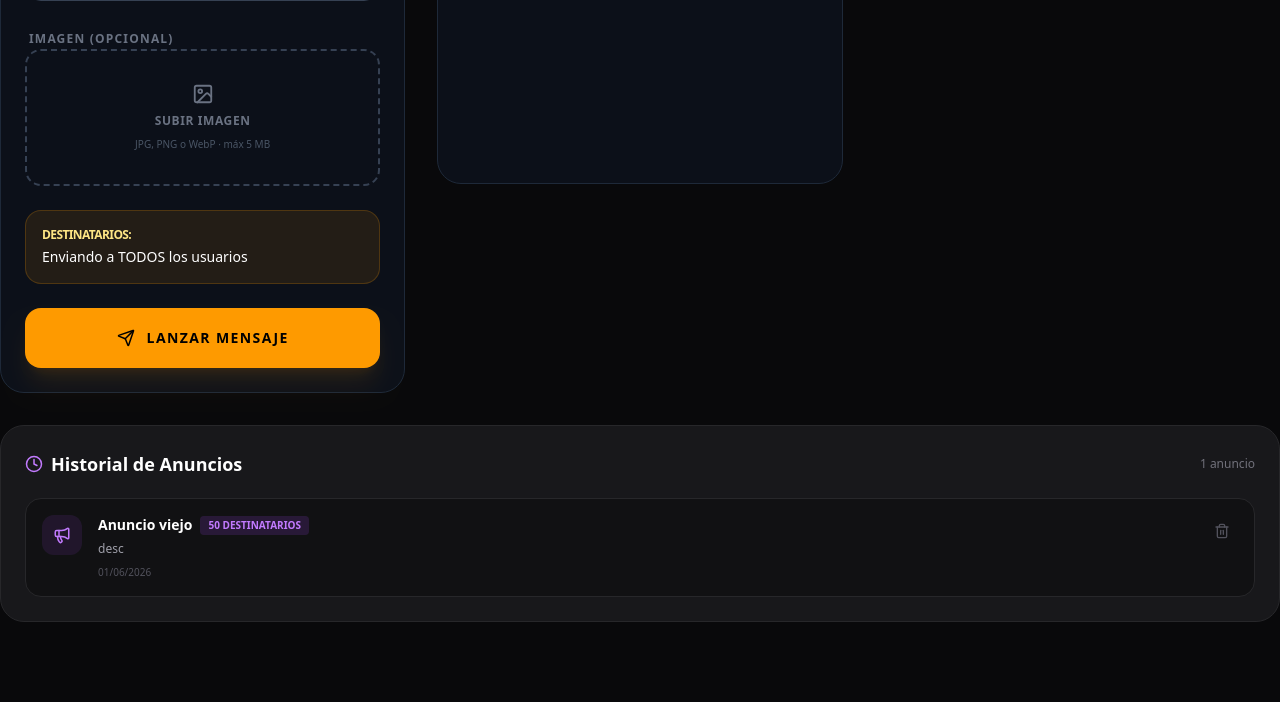
Test: Admin — Megáfono (notificaciones masivas) › elimina un anuncio del historial, previa confirmación
The image size is (1280, 702).
(page scrolled)
Expected: the heading "Anuncio viejo" is shown, [98, 515, 192, 535]
Click the button titled "Eliminar anuncio". click: (1222, 531)
box: [1206, 515, 1238, 547]
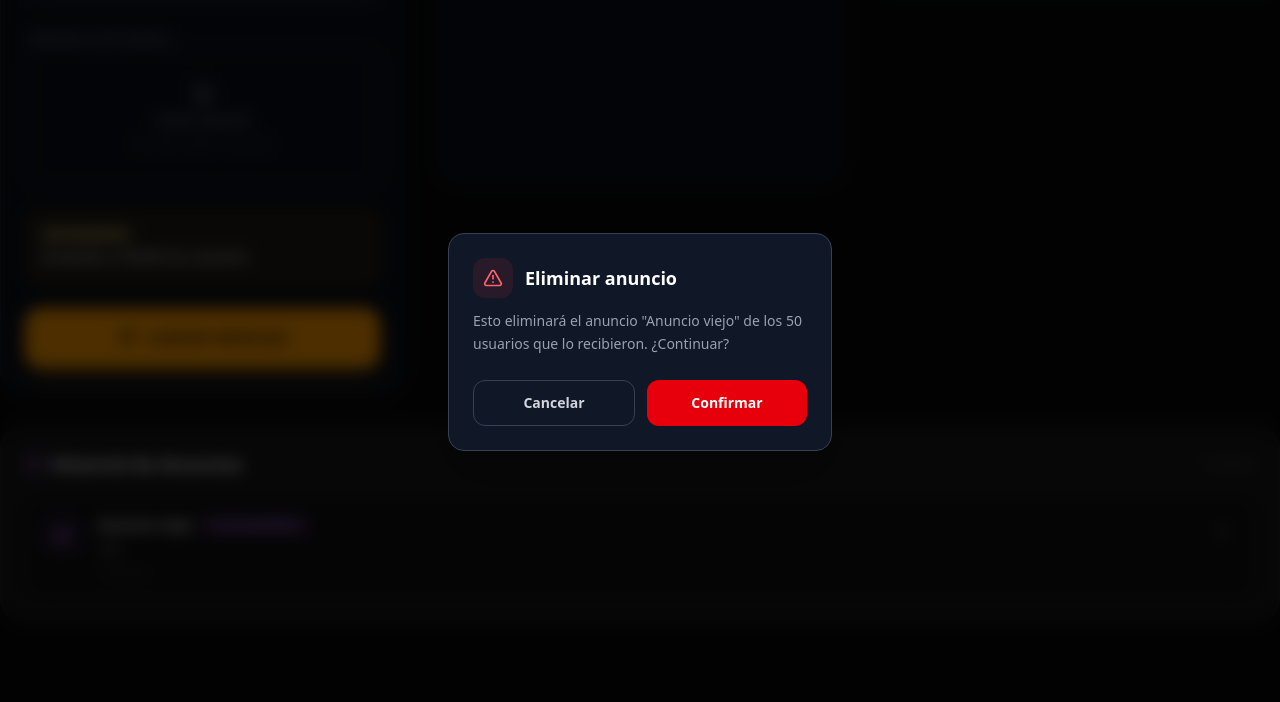
Expected: the heading "Eliminar anuncio" is shown, [525, 264, 677, 292]
Click the button "Confirmar". click: (727, 403)
box: [647, 380, 807, 426]
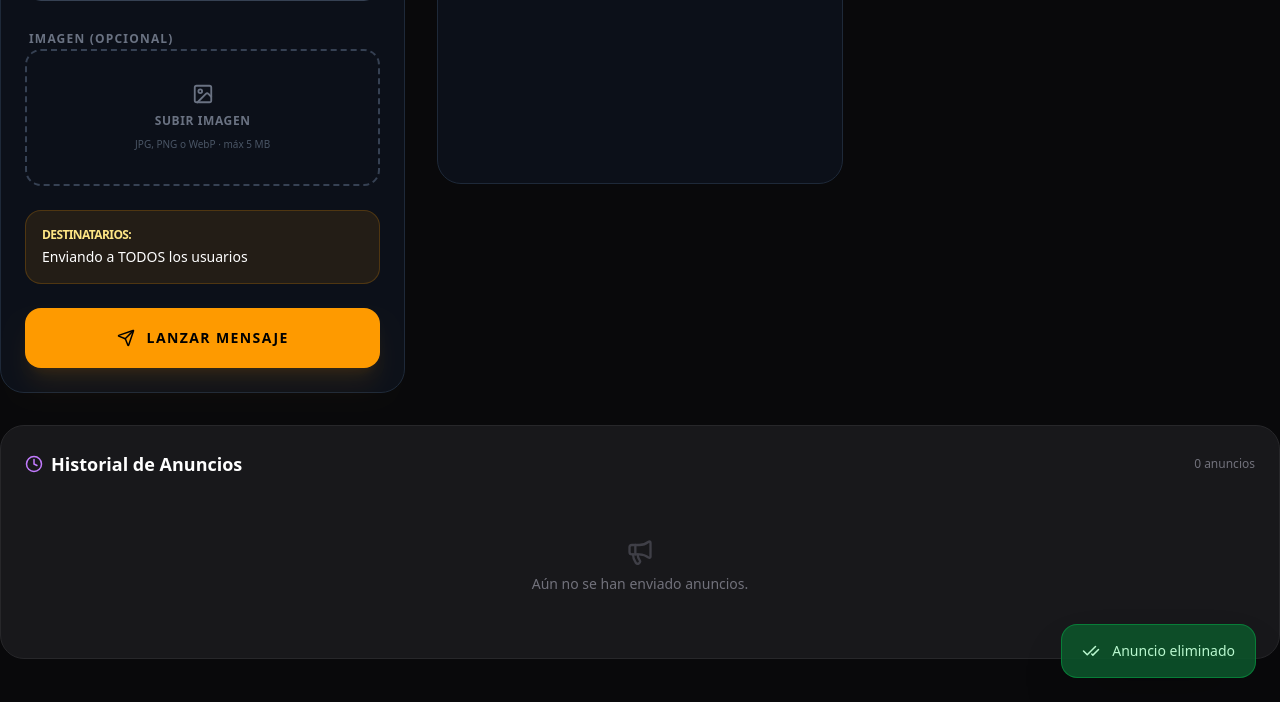
Expected: the text "Anuncio viejo" is gone
